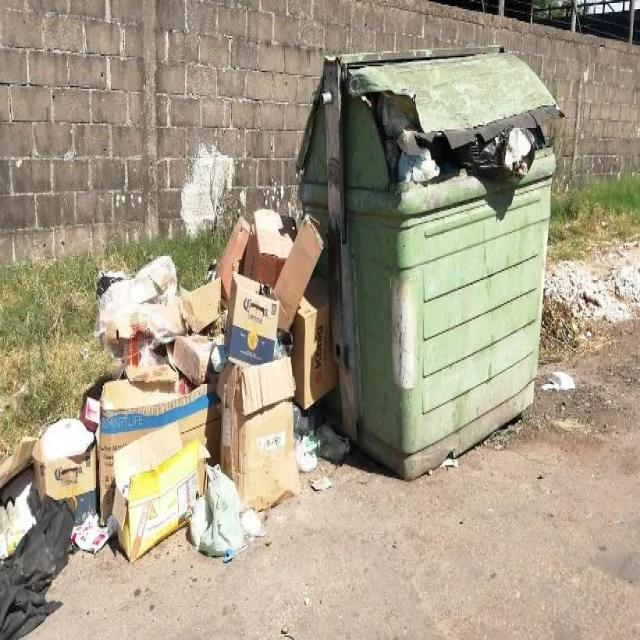garbage: (9, 192, 330, 638), (428, 118, 551, 178), (377, 98, 430, 184)
